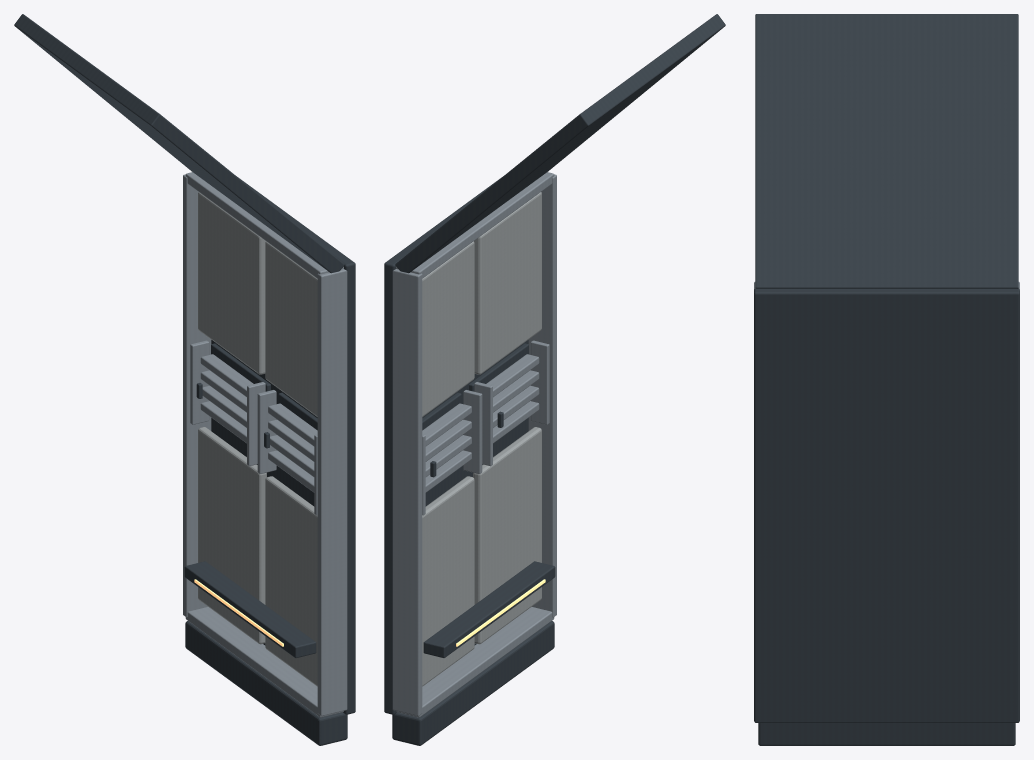
File: NA_GalleryPanel_A_LOD0.fbx
3 renders of one model, left to right at view 1: azimuth 30°, elevation 25°; view 2: azimuth 150°, elevation 25°; view 3: azimuth 270°, elevation 25°, orthographic. The views are drawn at different scales.
Parts seen in each view (by area): view 1: NA_GalleryPanel_A_LOD0; view 2: NA_GalleryPanel_A_LOD0; view 3: NA_GalleryPanel_A_LOD0.
Boxes of the visible parts, x1=… form: NA_GalleryPanel_A_LOD0: x1=14, y1=14, x2=355, y2=745; NA_GalleryPanel_A_LOD0: x1=384, y1=14, x2=725, y2=745; NA_GalleryPanel_A_LOD0: x1=754, y1=14, x2=1019, y2=745.
Bounding box in the file's own units: 4.59 × 14.44 × 5.4.
